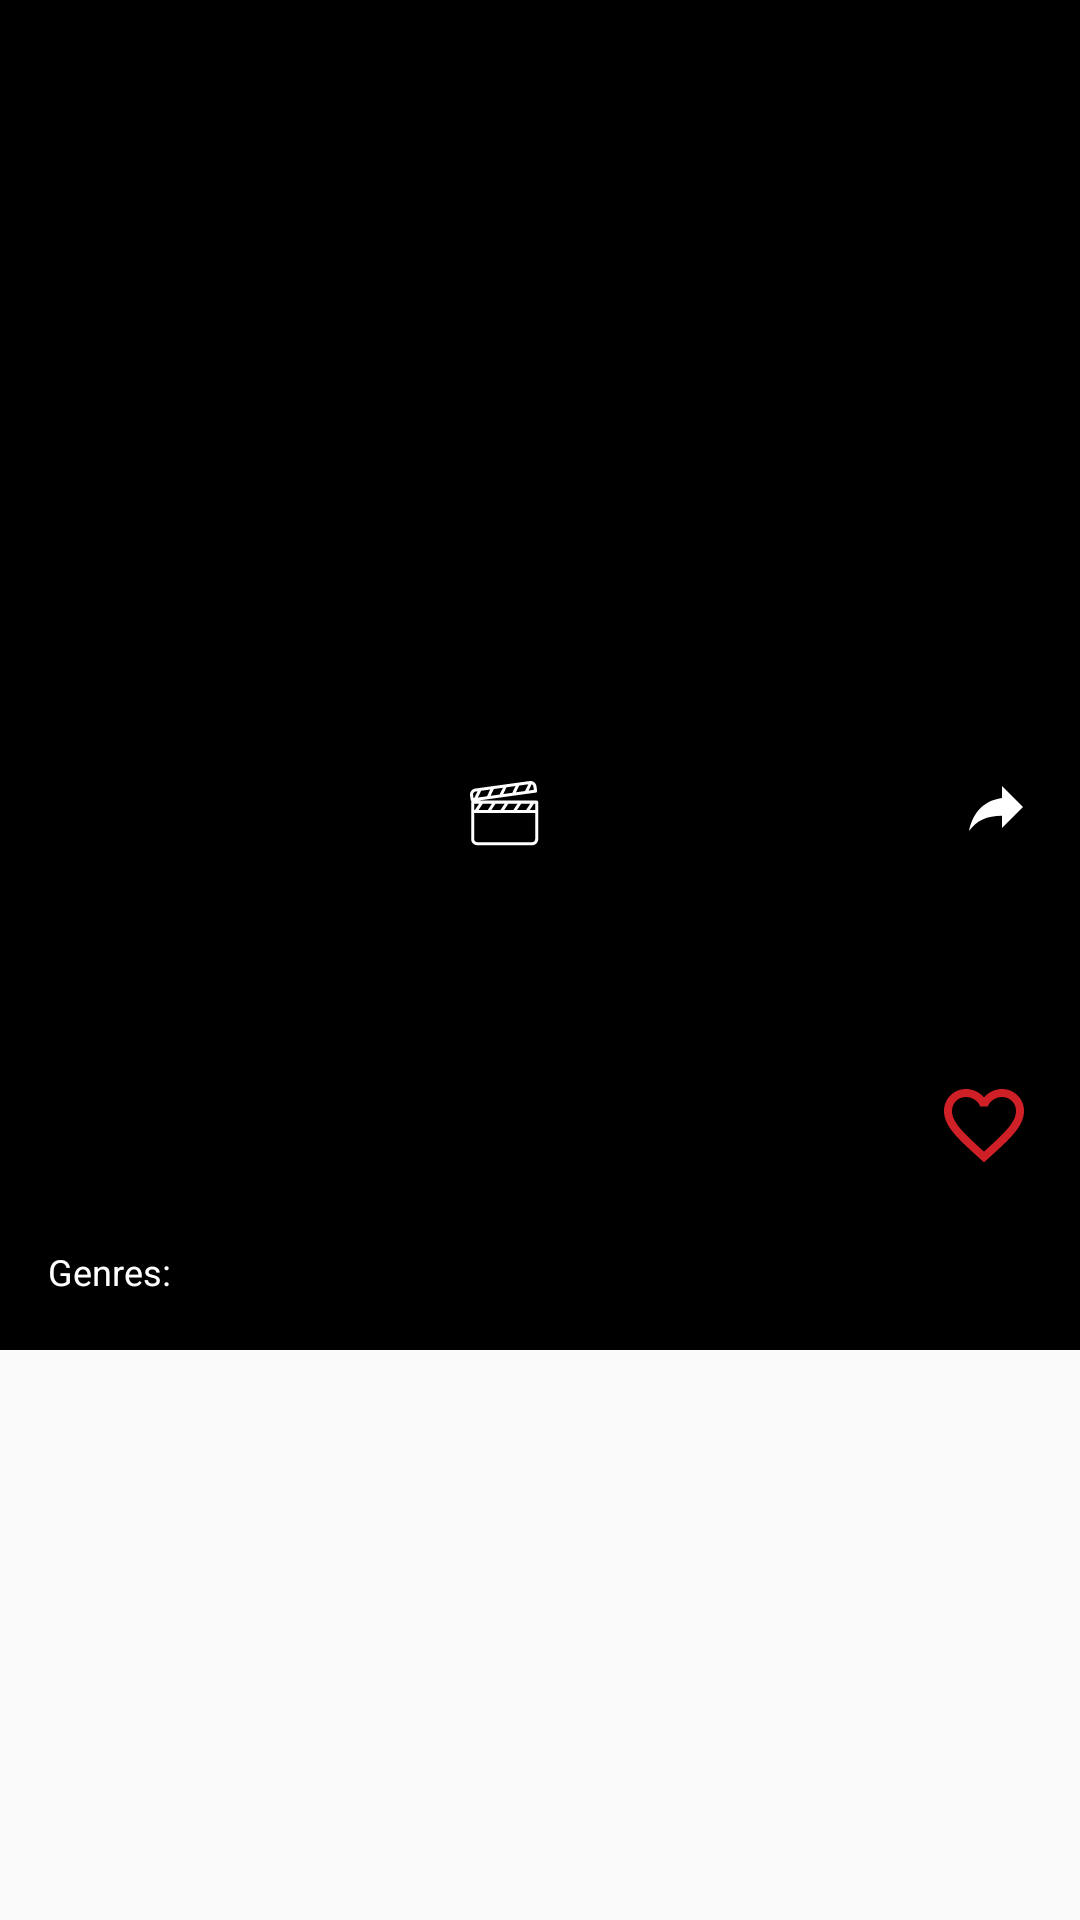

Screen size 1080 × 1920. Icon name, then its center in pixels as (x,y):
clapperboard: (504,813)
favorite check box: (984,1125)
share: (996,808)
